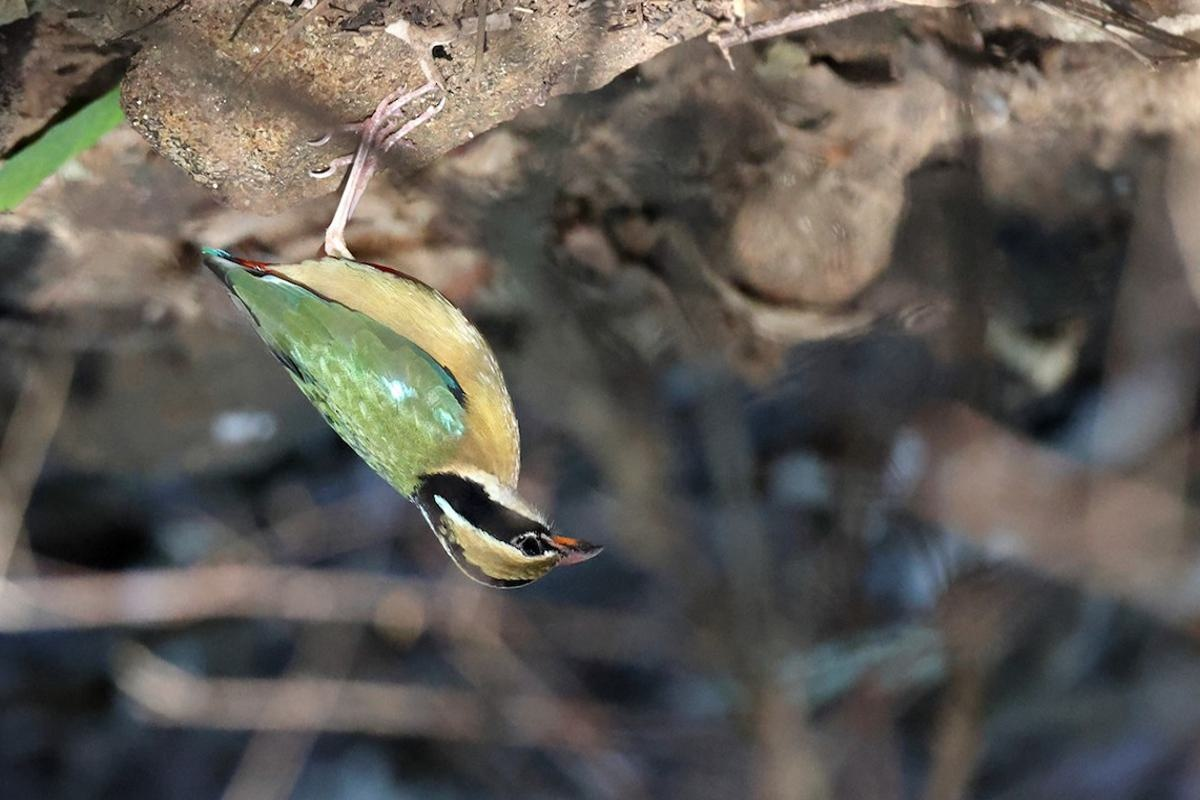pitta: (180, 88, 617, 608)
